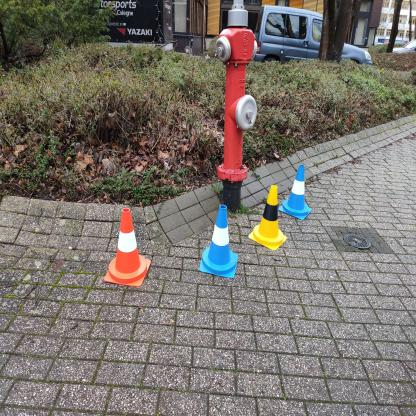Cones_small_blue: (198, 195, 240, 288), (285, 155, 314, 223)
Cones_small_orange: (103, 200, 153, 301)
Cones_small_yellow: (249, 179, 302, 256)
